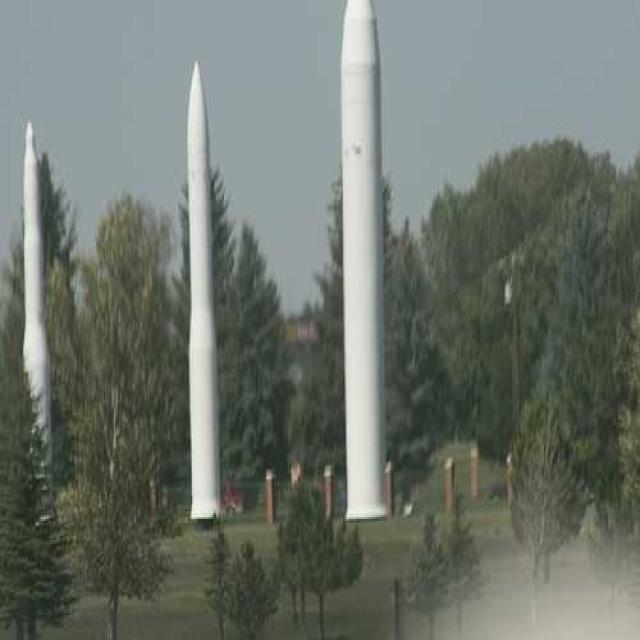missile: (339, 5, 391, 522), (186, 56, 227, 532), (20, 120, 61, 530)
